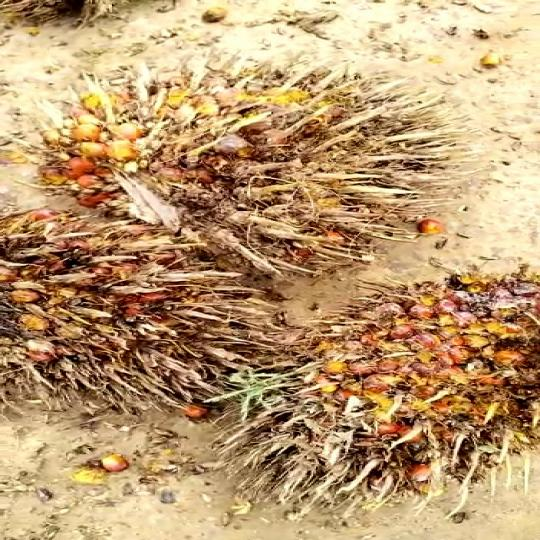terlalu masak: (36, 73, 439, 267), (0, 217, 277, 393)
